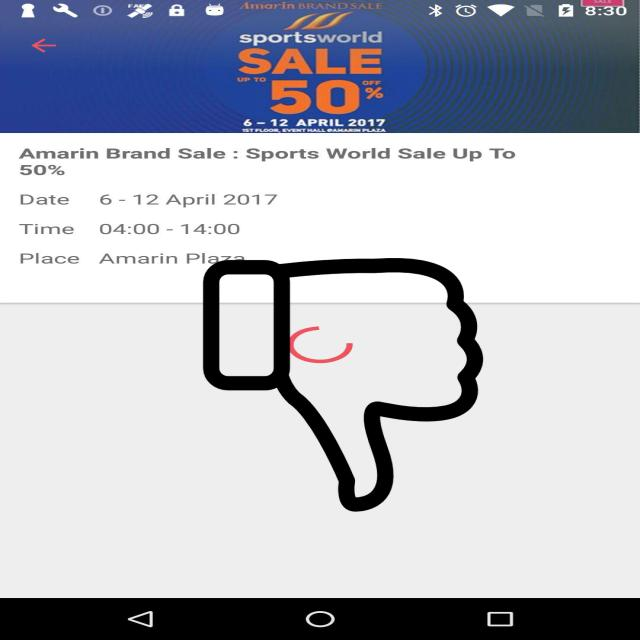obstruction: (199, 258, 487, 512)
